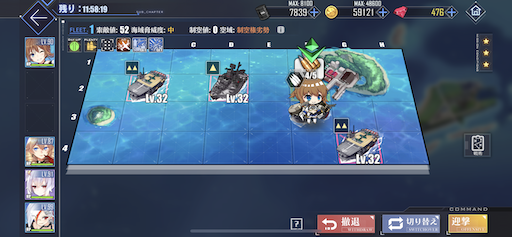lv1: (204, 59, 257, 111)
lv2: (332, 118, 386, 169), (120, 60, 173, 105)
